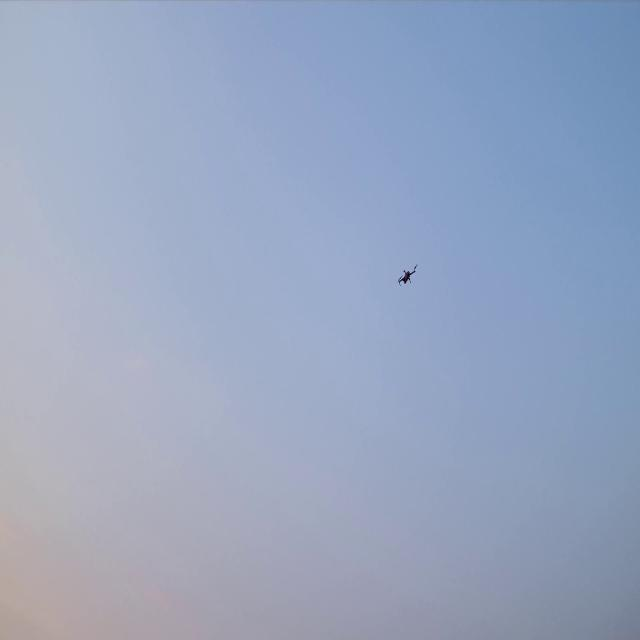UAV: (398, 264, 419, 284)
